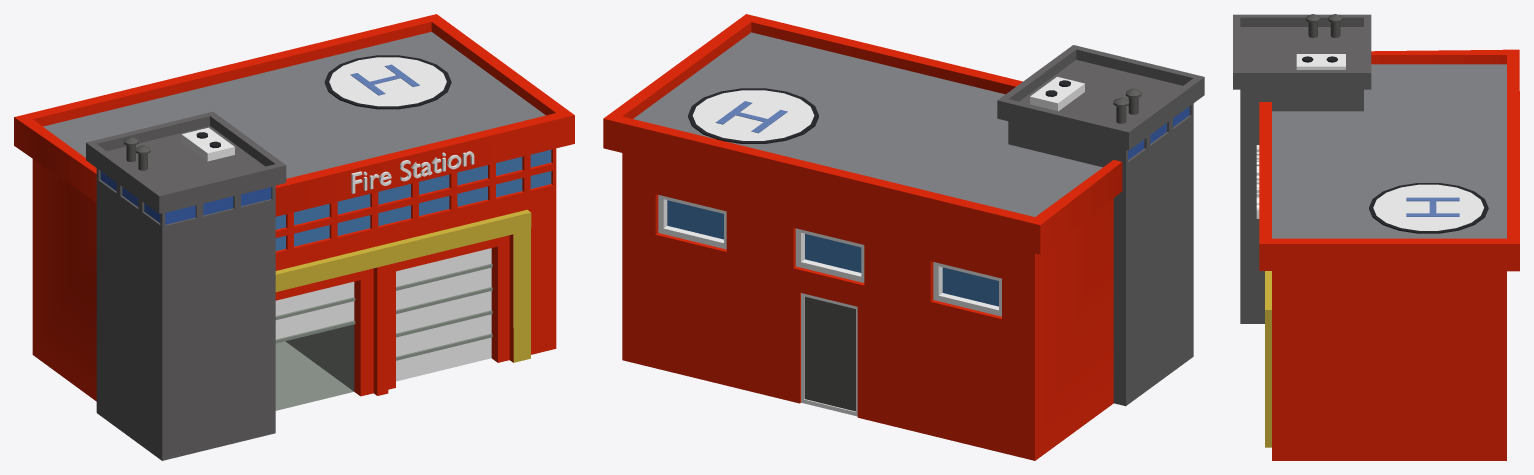
File: Fire Station_1.fbx
3 views of the same model, side by side, from view 1: azimuth 30°, elevation 25°; view 2: azimuth 150°, elevation 25°; view 3: azimuth 270°, elevation 25° (orthographic). The views are drawn at different scales.
Visible parts, largest first — view 1: Fire Station_1; view 2: Fire Station_1; view 3: Fire Station_1.
Boxes of the visible parts, x1=… form: Fire Station_1: x1=14, y1=14, x2=574, y2=460; Fire Station_1: x1=603, y1=14, x2=1204, y2=460; Fire Station_1: x1=1233, y1=14, x2=1519, y2=460.
Bounding box in the file's own units: 2121 × 1330 × 1301.
